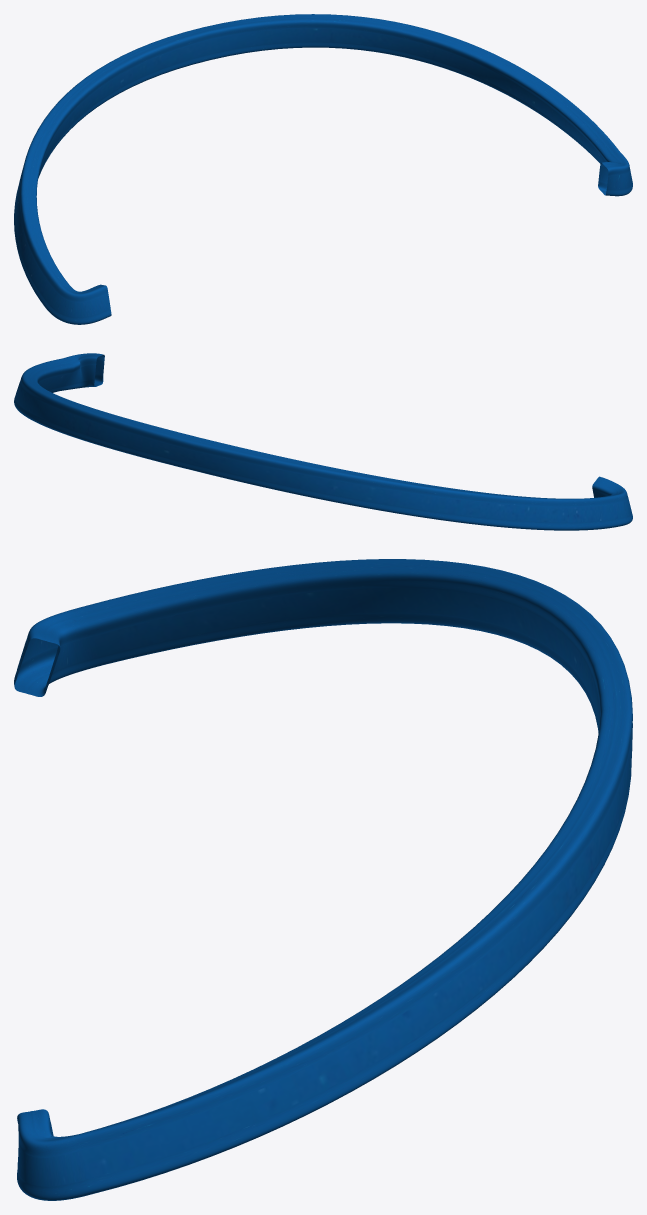
Rendered from band-blue.glb.
3 views of the same model, one above another, from view 1: azimuth 30°, elevation 25°; view 2: azimuth 150°, elevation 25°; view 3: azimuth 270°, elevation 25° (orthographic). The views are drawn at different scales.
Visible parts, largest first — view 1: Head Upper- Headphone Structure.001; view 2: Head Upper- Headphone Structure.001; view 3: Head Upper- Headphone Structure.001.
Part boxes in pixels (left/top/right/bottom): Head Upper- Headphone Structure.001: left=14, top=14, right=632, bottom=324; Head Upper- Headphone Structure.001: left=14, top=353, right=632, bottom=530; Head Upper- Headphone Structure.001: left=14, top=559, right=632, bottom=1200.
Size of the model in its own units: 0.3161 by 0.0628 by 0.1513.
1 material, 1 textured.
